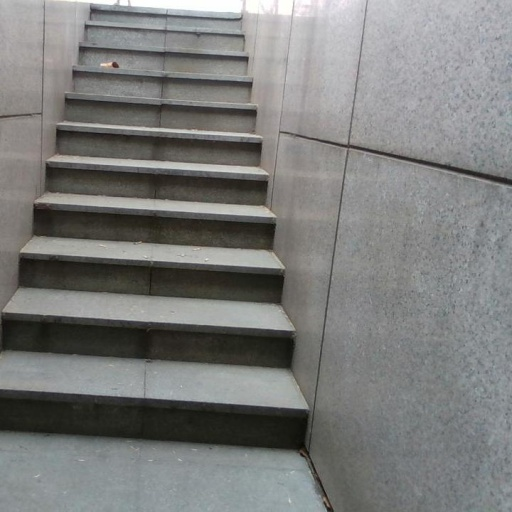Stairs: (51, 6, 307, 448)
